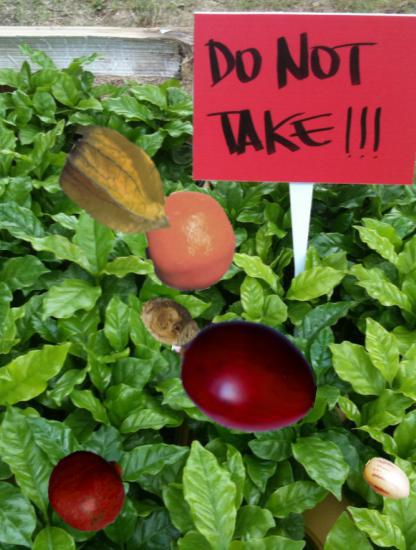Clementine: (138, 190, 241, 293)
Ginger: (132, 283, 232, 383)
Pepino: (361, 453, 415, 507)
Physalis: (59, 124, 185, 250)
Pomegranate: (47, 448, 130, 531)
Tamarillo: (168, 301, 318, 451)
